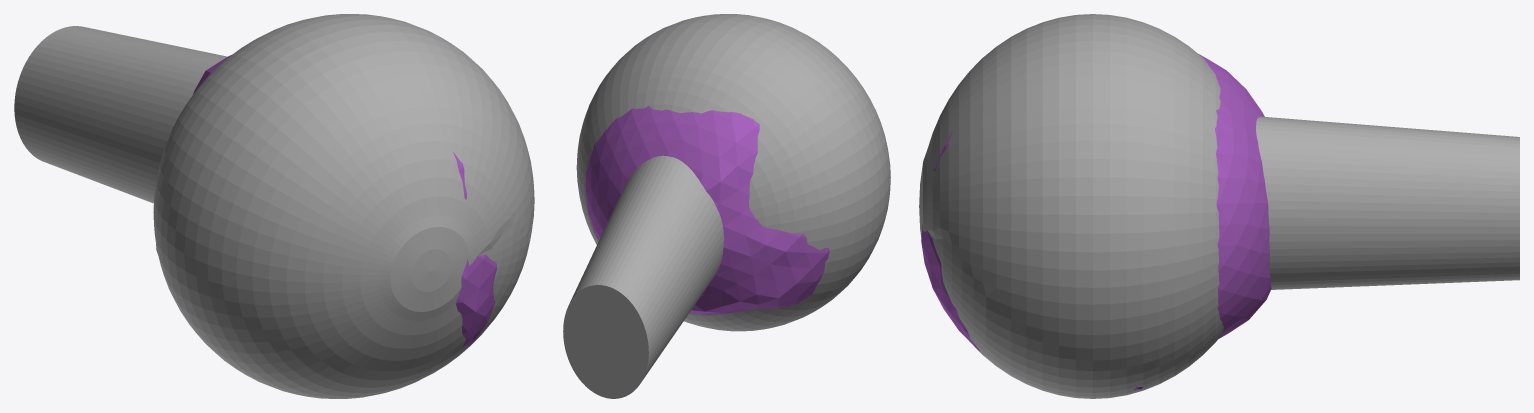
File: G03_A3_ALIGNED_GT.glb
3 renders of one model, left to right at view 1: azimuth 30°, elevation 25°; view 2: azimuth 150°, elevation 25°; view 3: azimuth 270°, elevation 25°, orthographic. The views are drawn at different scales.
Visible parts, largest first — view 1: Independent_GT, A3; view 2: Independent_GT, A3; view 3: Independent_GT, A3.
Part boxes in pixels (x1,y1,x2,y2): Independent_GT: [14, 14, 534, 398]; A3: [156, 55, 496, 346]; Independent_GT: [563, 14, 890, 398]; A3: [585, 106, 829, 314]; Independent_GT: [919, 14, 1519, 398]; A3: [921, 54, 1271, 390].
Bounding box in the file's own units: 0.02 × 0.02 × 0.0312.
